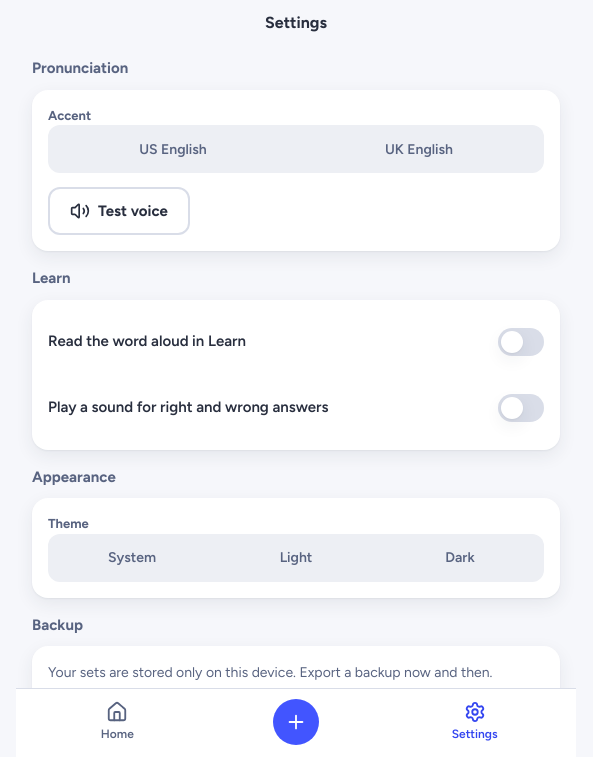
SettingsPage › toasts when saving the accent fails
The image size is (593, 757).
Click the radio button labelled "UK English": (419, 149) [385,140,453,158]
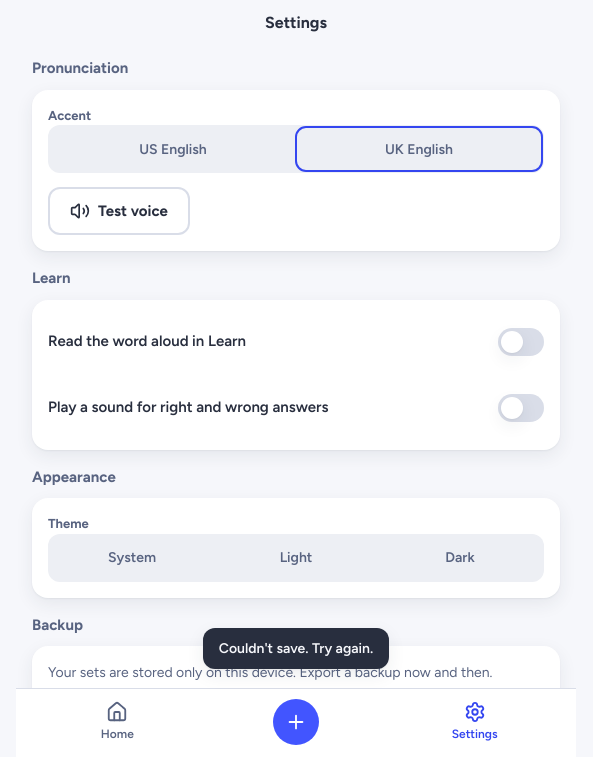
Result: the text "Couldn't save. Try again." is shown at [203,628,389,669]
